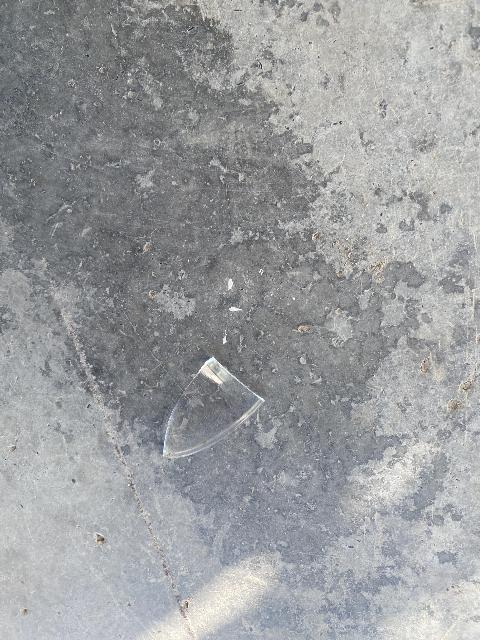Cam: (160, 348, 263, 460)
